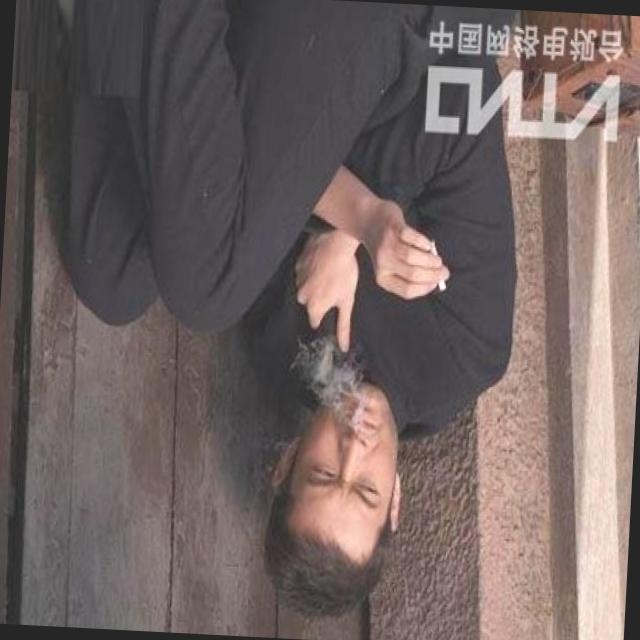smoke: (428, 235, 450, 295)
